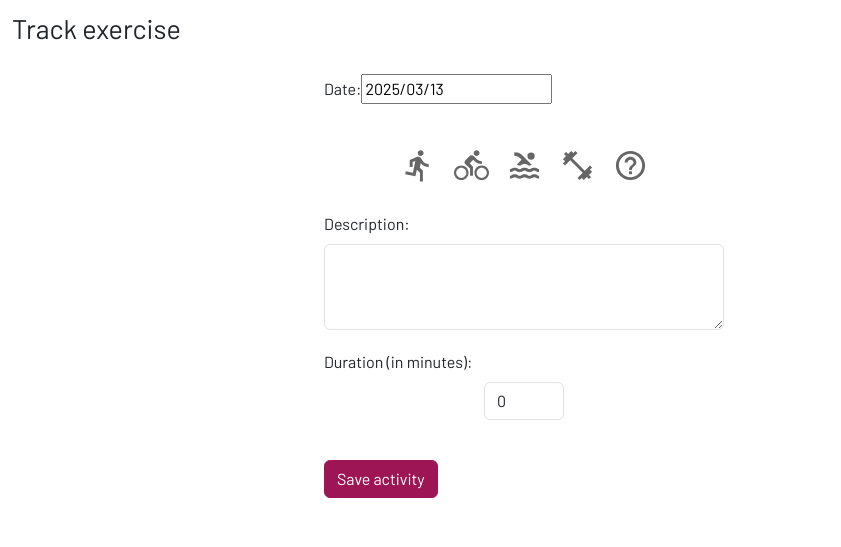
Test: should successfully save an exercise
The image size is (841, 547).
Click the element with test id "RunningBtn" at (418, 166), box top-left (400, 148), bottom-right (436, 183)
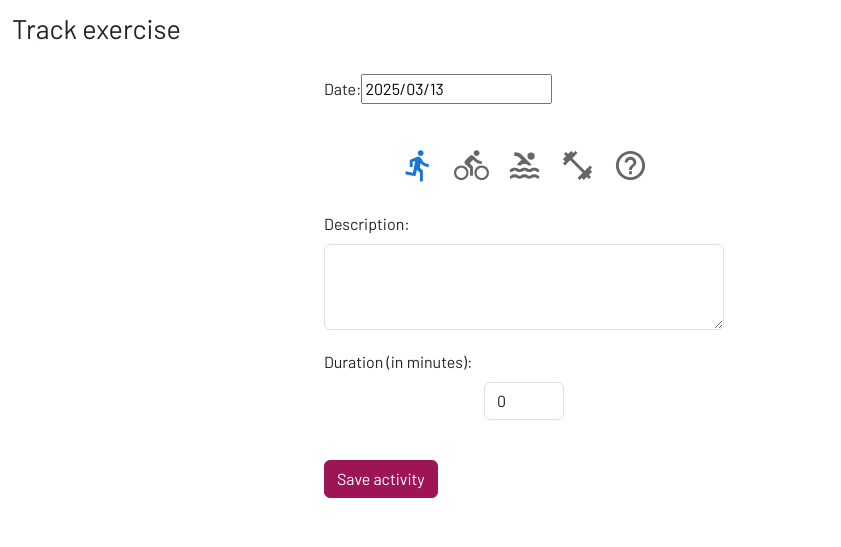
Type "A ten mile run. Good effort" into the text box labelled "Description:" at (524, 287), box top-left (324, 244), bottom-right (724, 330)
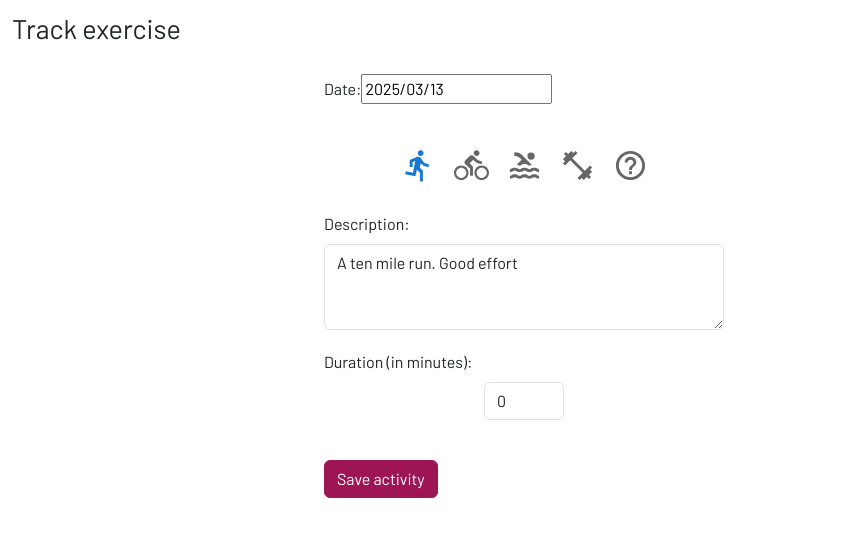
Replace the text in the number field labelled "Duration (in minutes):" with "20" at (524, 401), box top-left (484, 382), bottom-right (564, 420)
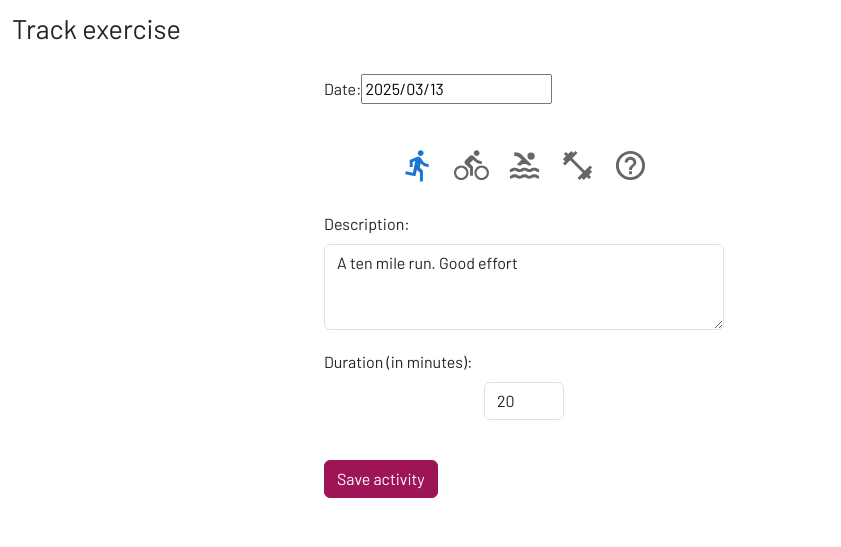
Click the button "Save activity" at (381, 479), box top-left (324, 460), bottom-right (438, 498)
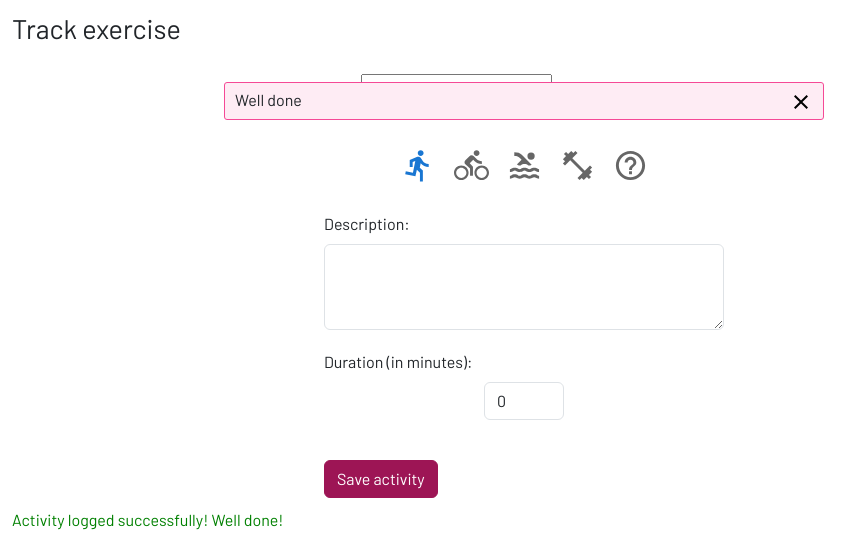
Expected: the text "Activity logged successfully! Well done!" is shown, top-left (12, 510), bottom-right (283, 529)
